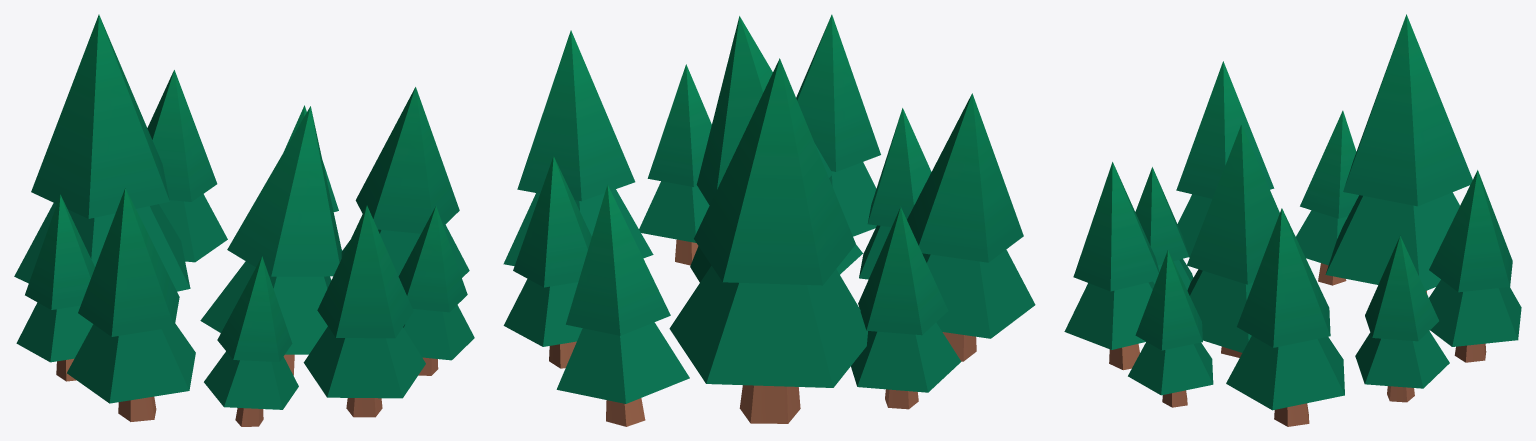
File: trees_a_medium.glb
3 views of the same model, side by side, from view 1: azimuth 30°, elevation 25°; view 2: azimuth 150°, elevation 25°; view 3: azimuth 270°, elevation 25° (orthographic). The views are drawn at different scales.
Visible parts, largest first — view 1: trees_A_medium; view 2: trees_A_medium; view 3: trees_A_medium.
Boxes of the visible parts, x1=… form: trees_A_medium: x1=14, y1=14, x2=474, y2=426; trees_A_medium: x1=503, y1=14, x2=1035, y2=426; trees_A_medium: x1=1064, y1=14, x2=1521, y2=426.
Size of the model in its own units: 1.75 by 1.3 by 1.81.
1 material, 1 textured.
